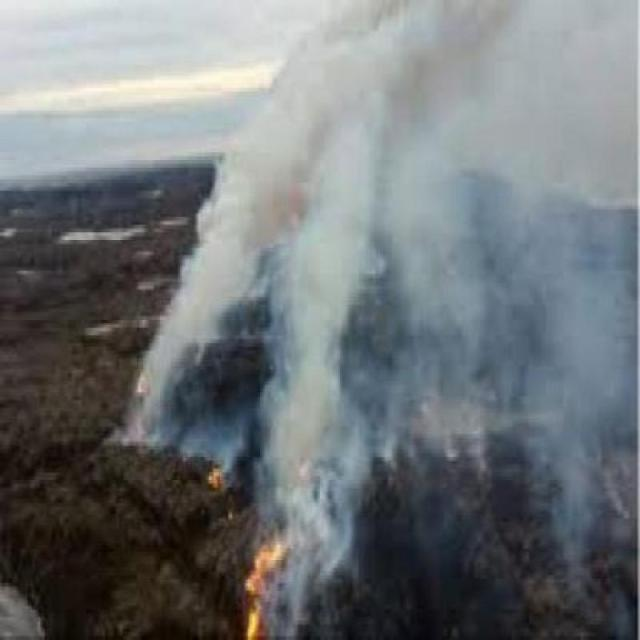Fire: (229, 526, 294, 640), (204, 458, 226, 496)
Smoke: (103, 284, 594, 456), (290, 462, 368, 578)
